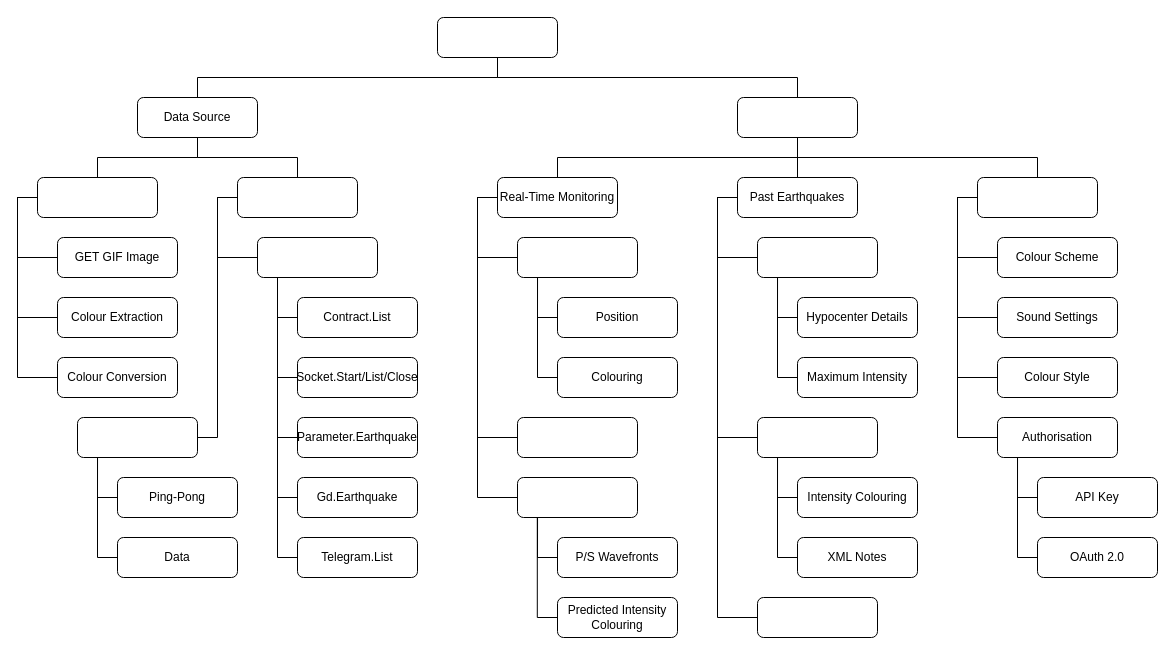
This 1175x655 diagram has some shape labels left out. Here are the shapes that lost their labels. From the top down, the centre of each, then its label:
pixel 497 37: EEETWV
pixel 797 117: GUI
pixel 97 197: NIED Kyoshin Monitor
pixel 297 197: DM-D.S.S.
pixel 1037 197: Configuration
pixel 317 257: HTTP Requests
pixel 577 257: Real Time Observation Points
pixel 817 257: Sidebar List
pixel 137 437: WebSocket
pixel 577 437: Tsunami Warnings
pixel 817 437: Detail Button
pixel 577 497: EEWs
pixel 817 617: Website Button
